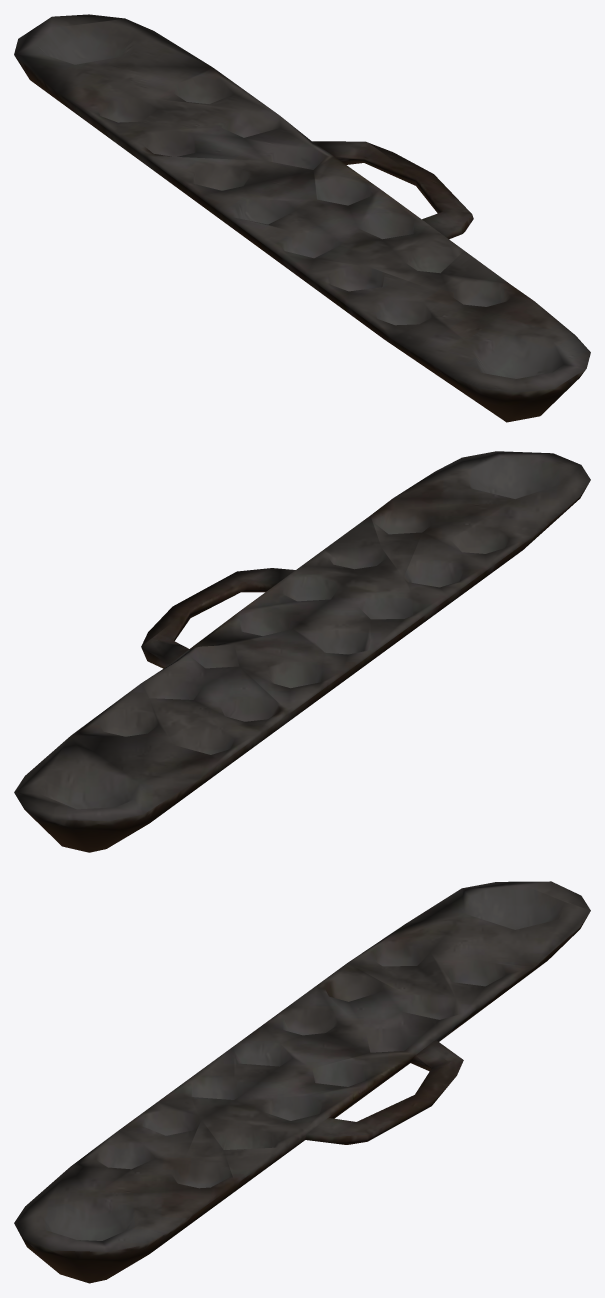
The model's file is sungka_board.glb.
3 renders of one model, top to bottom at view 1: azimuth 30°, elevation 25°; view 2: azimuth 150°, elevation 25°; view 3: azimuth 330°, elevation 25°, orthographic.
Visible parts, largest first — view 1: sungka_board; view 2: sungka_board; view 3: sungka_board.
Boxes of the visible parts, x1,y1,x2,y2 form: sungka_board: (14, 14, 590, 422); sungka_board: (14, 451, 590, 852); sungka_board: (14, 881, 590, 1283).
Size of the model in its own units: 0.1396 by 0.0352 by 0.6006.
Materials: 1 (1 with a texture image).
